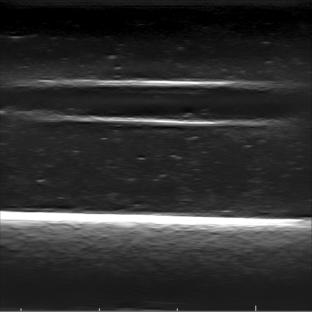vessel: (5, 78, 304, 128)
